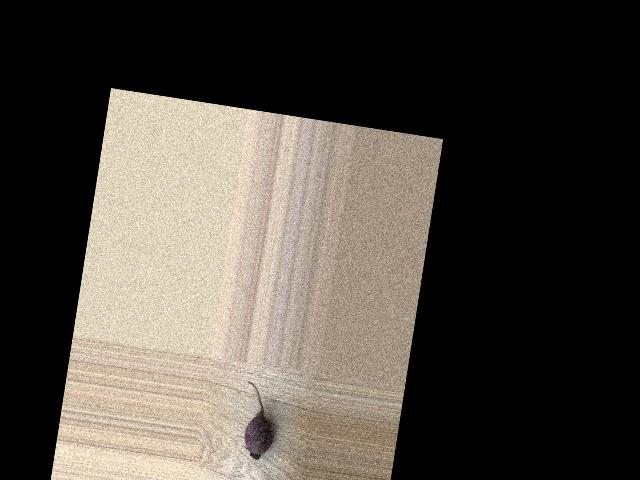beet: (234, 380, 280, 460)
